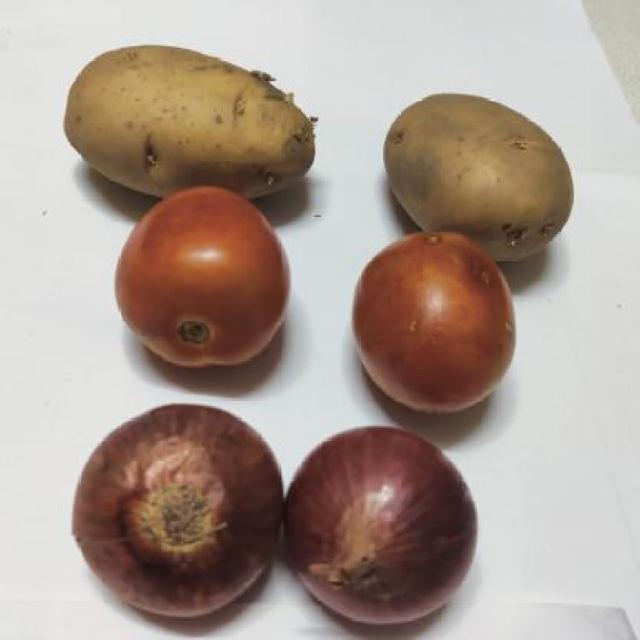Onion: (62, 408, 280, 637), (284, 428, 478, 636)
Potato: (51, 24, 336, 210), (362, 83, 590, 266)
Tomato: (111, 180, 294, 377), (356, 234, 524, 428)
